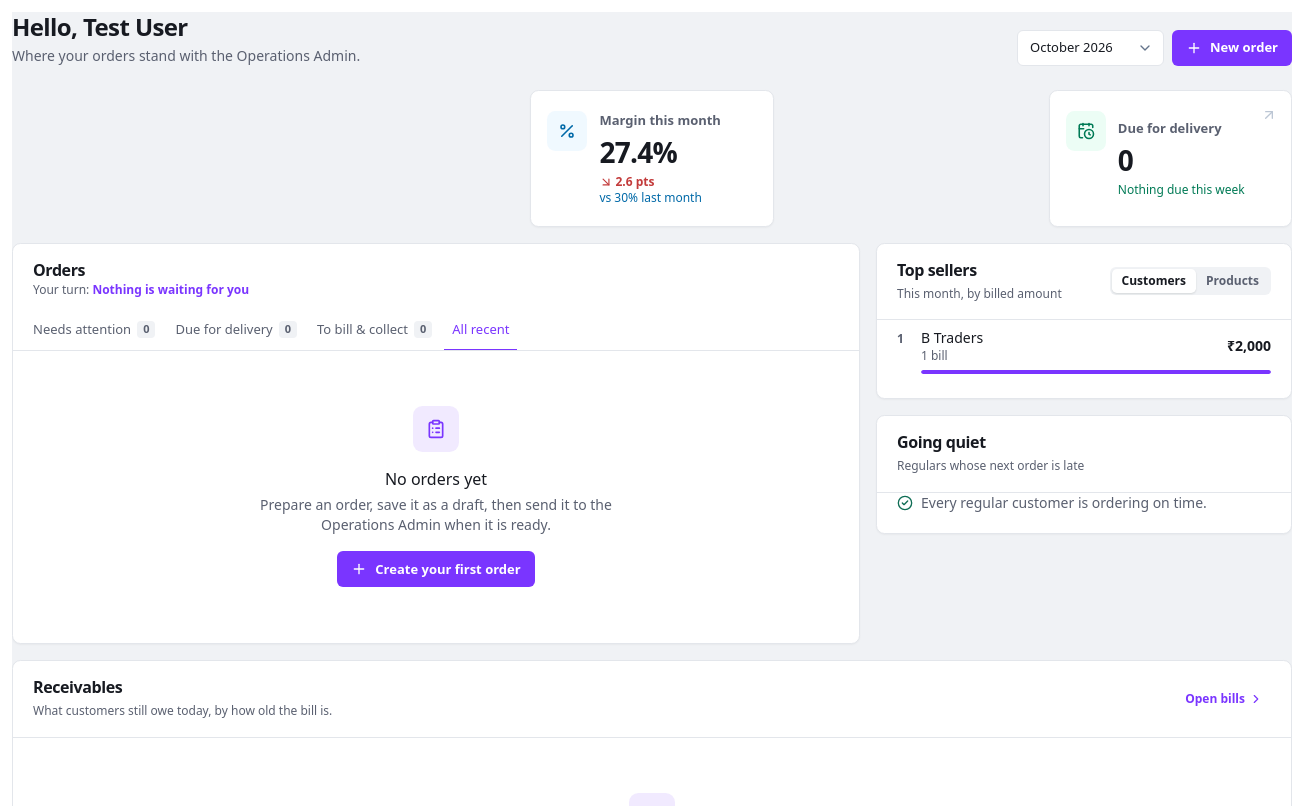
Test: Marketing dashboard figures › switches the top list to the products that sold the most
The width and height of the screenshot is (1304, 806).
Click the tab "Products" at (1232, 281), box [1196,269,1269,293]
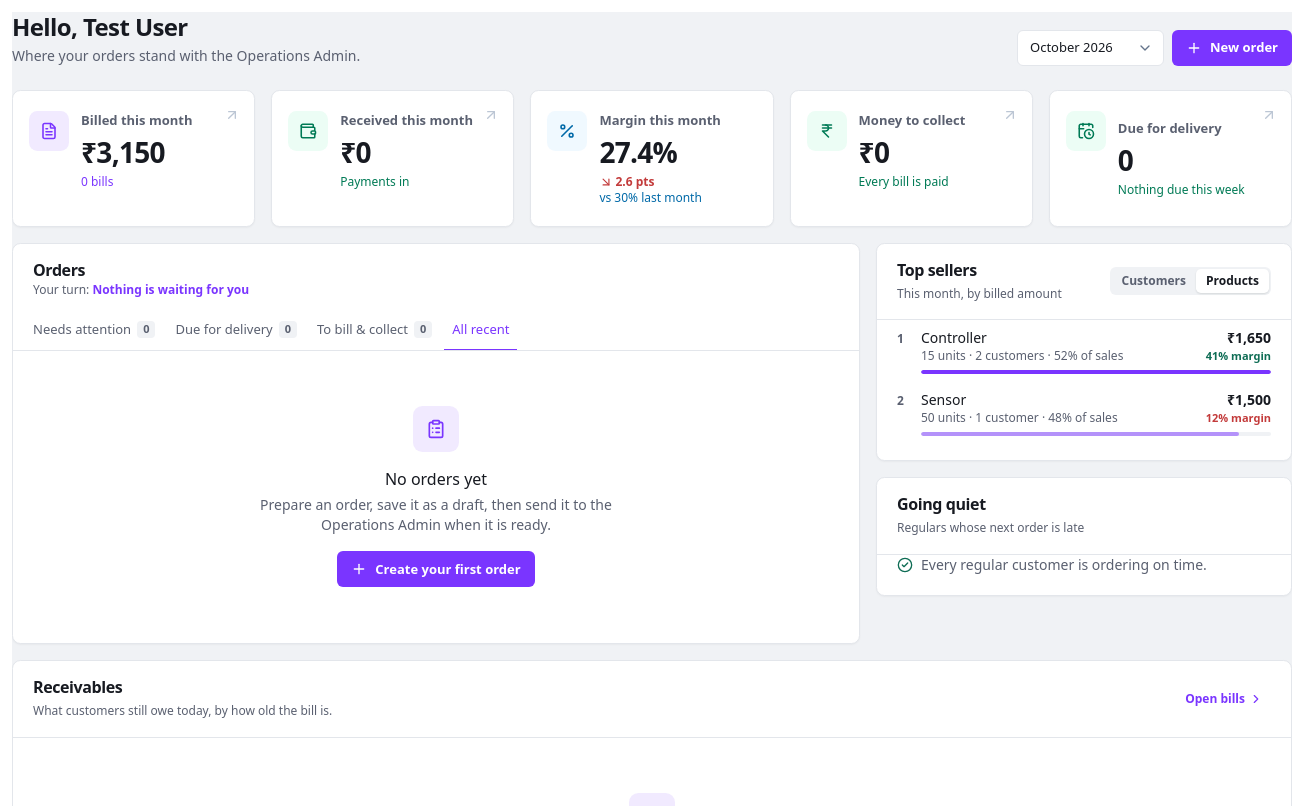
Expected: the text "Controller" is shown, [921,328,987,347]
Expected: the text "15 units · 2 customers · 52% of sales" is shown, [921,348,1123,364]
Expected: the text "50 units · 1 customer · 48% of sales" is shown, [921,410,1118,426]
